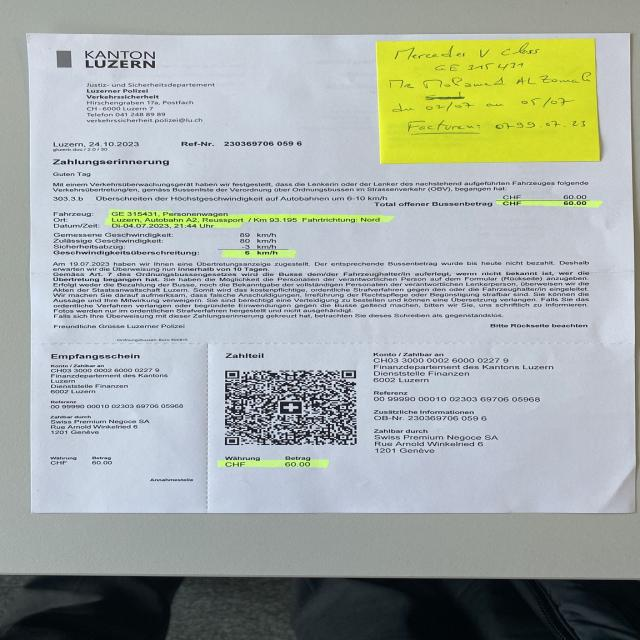paper-document-: (26, 33, 635, 514)
